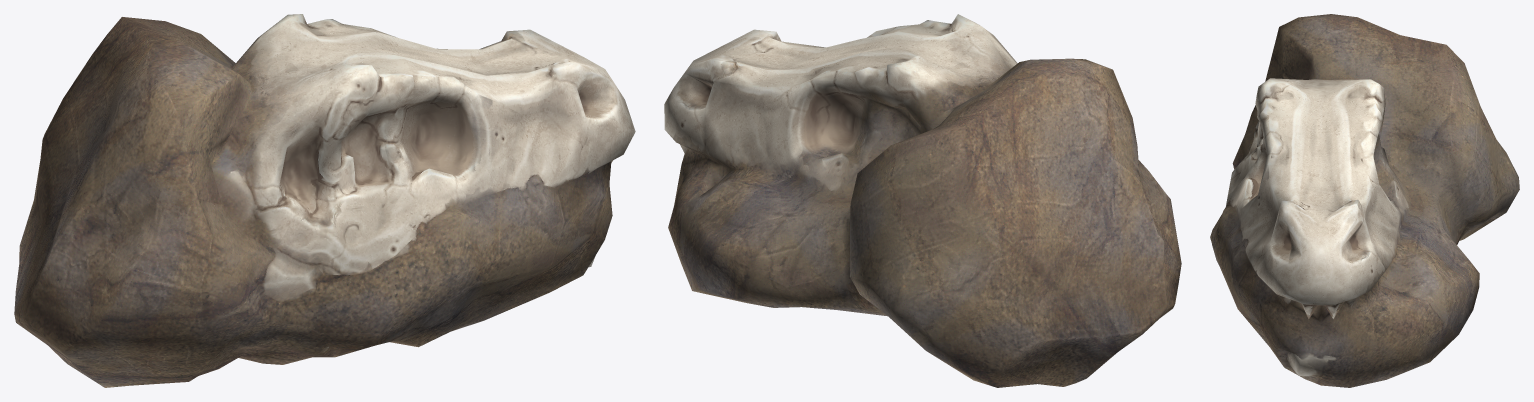
File: SM_FossilNode_2.fbx
The picture shows the model from 3 angles, left to right: view 1: azimuth 30°, elevation 25°; view 2: azimuth 150°, elevation 25°; view 3: azimuth 270°, elevation 25°; orthographic projection. The views are drawn at different scales.
Parts seen in each view (by area): view 1: SM_FossilNode_2; view 2: SM_FossilNode_2; view 3: SM_FossilNode_2.
Boxes of the visible parts, x1,y1,x2,y2 form: SM_FossilNode_2: [14, 14, 635, 387]; SM_FossilNode_2: [664, 14, 1181, 387]; SM_FossilNode_2: [1210, 14, 1519, 387].
Bounding box in the file's own units: 1.39 × 0.7714 × 0.8686.
